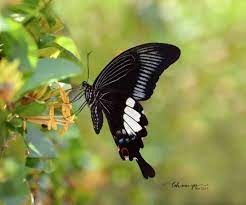insect: (69, 41, 180, 178)
